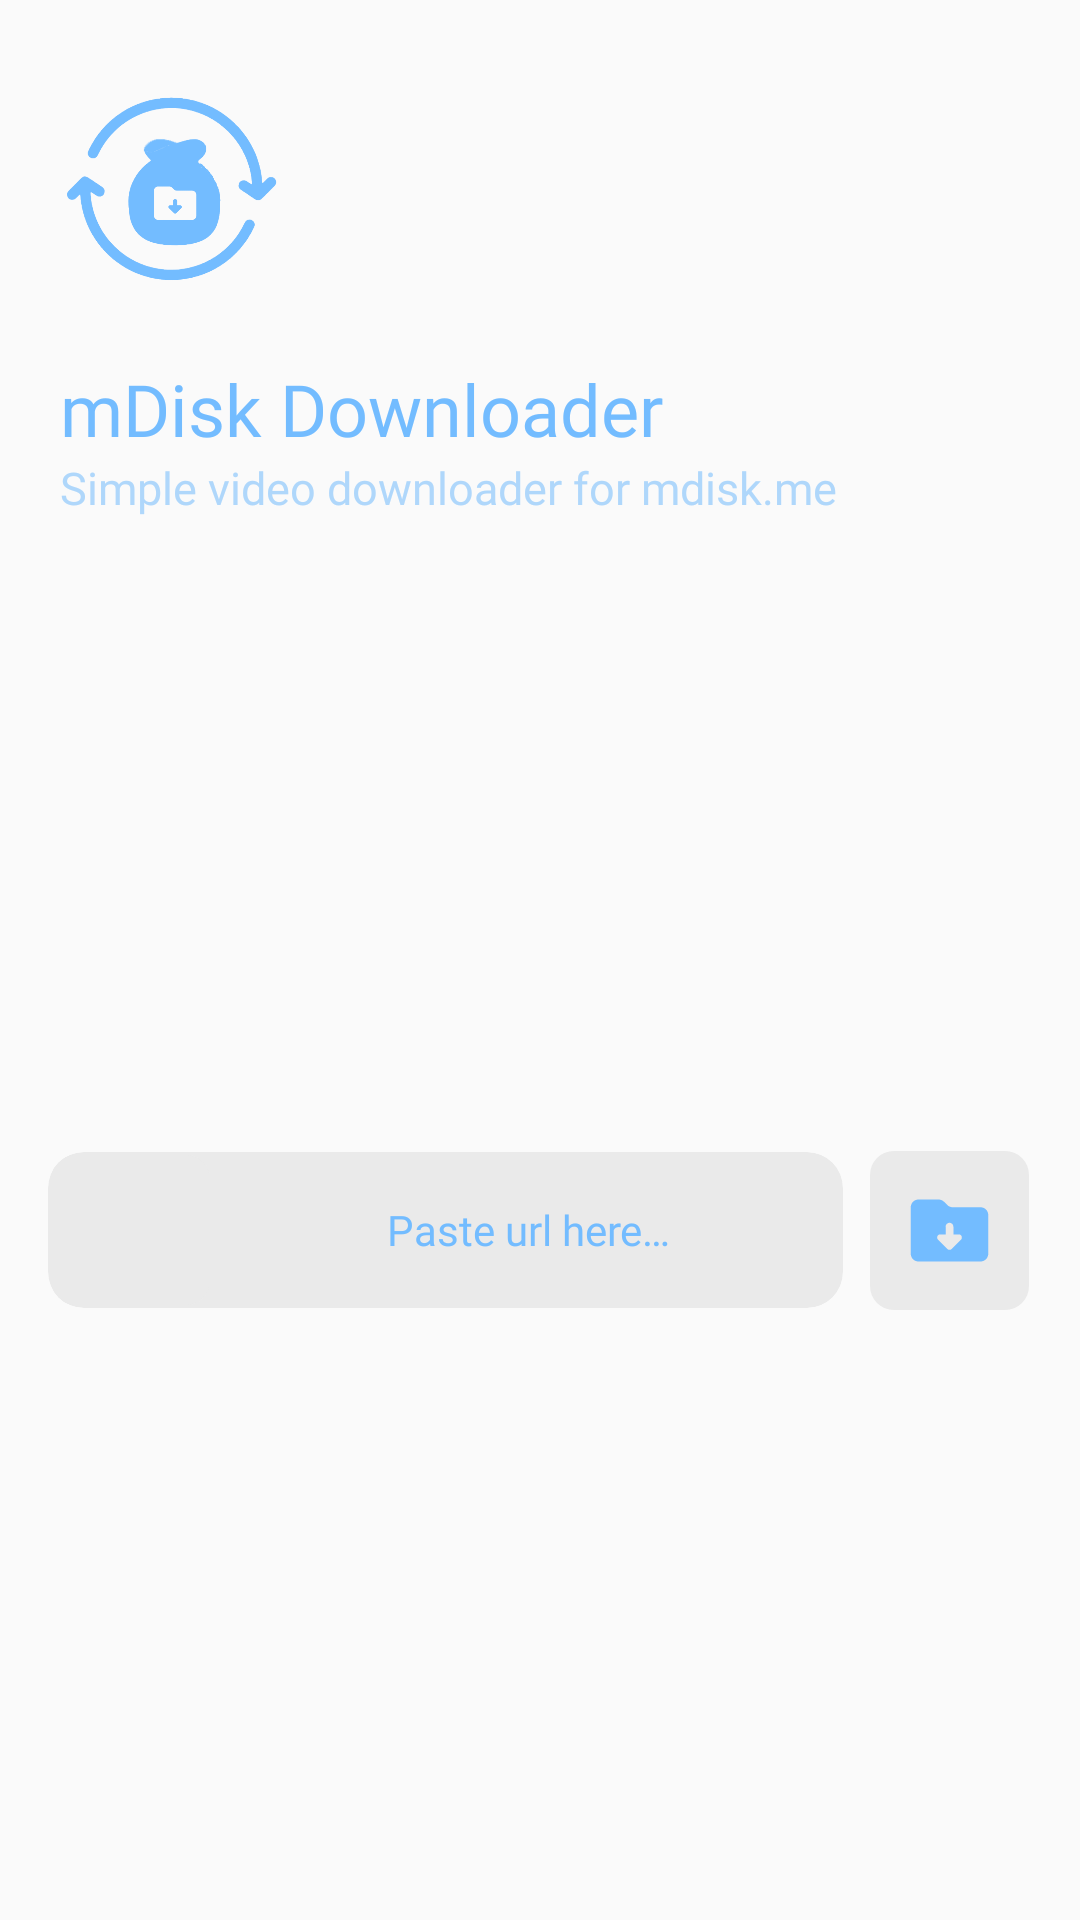

Icons on this 1080px x 1920px Android screen, each with the point to tap as (x=x, y=y):
Download: (x=949, y=1230)
